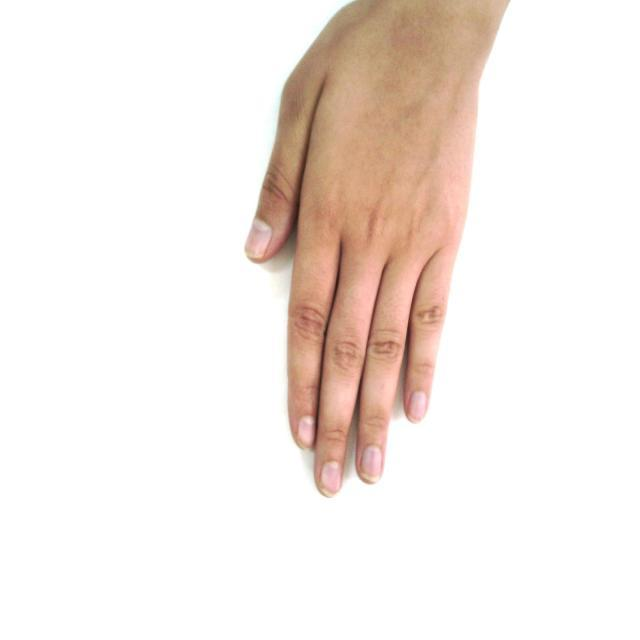Fingernail: (246, 220, 271, 257), (361, 446, 381, 480), (321, 462, 341, 495), (409, 393, 426, 422), (298, 417, 314, 447)
